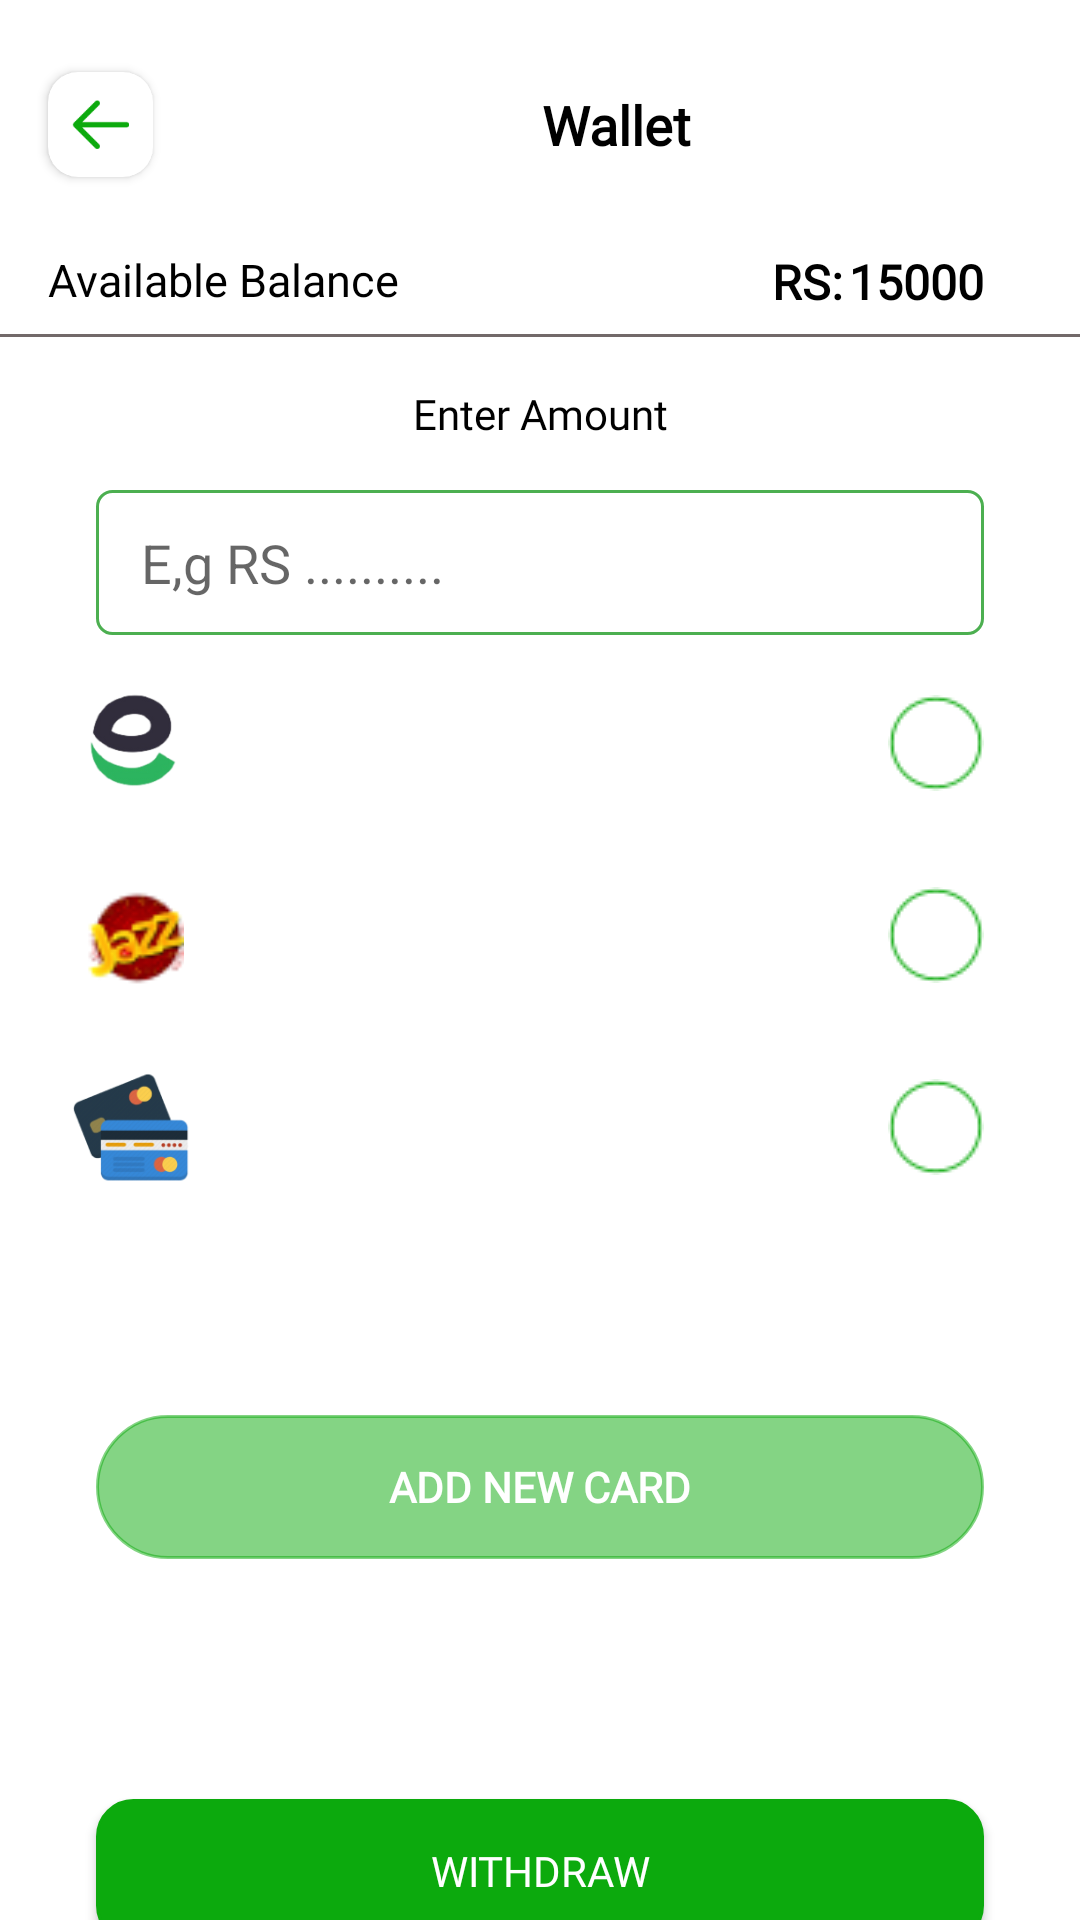

Screen size 1080x1920. Icon name, then its center in pixels as (x,y):
arrow back: (88,124)
bank: (130,1127)
custum checkbox circle: (936,743), (936,935), (936,1127)
